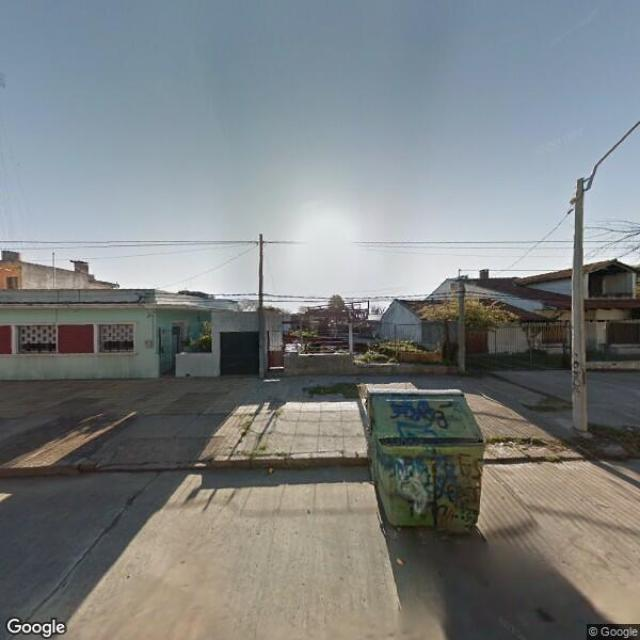garbage container: (356, 377, 493, 549)
